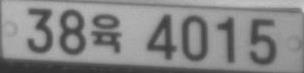0: (181, 14, 207, 60)
1: (216, 17, 242, 62)
3: (26, 8, 53, 53)
4: (147, 14, 176, 60)
5: (249, 19, 276, 64)
8: (59, 9, 86, 55)
육: (90, 13, 121, 52)
